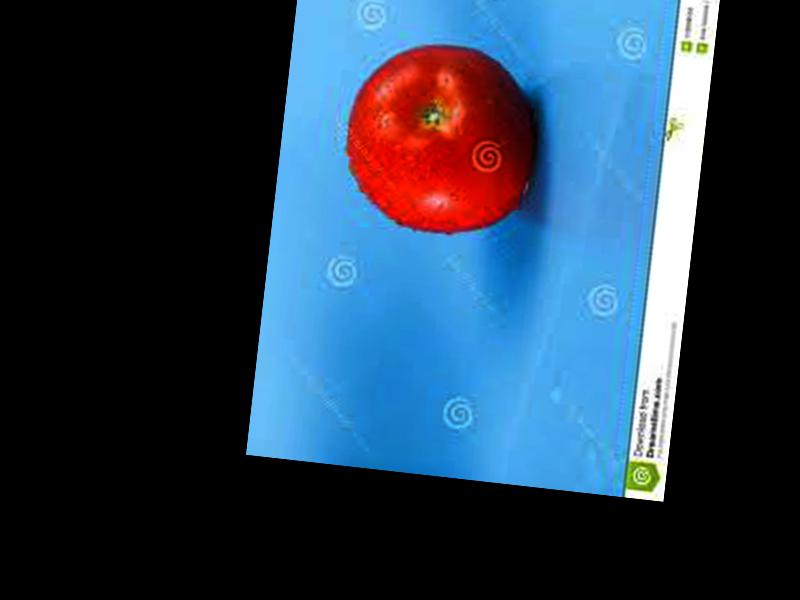Tomato: (338, 32, 543, 242)
